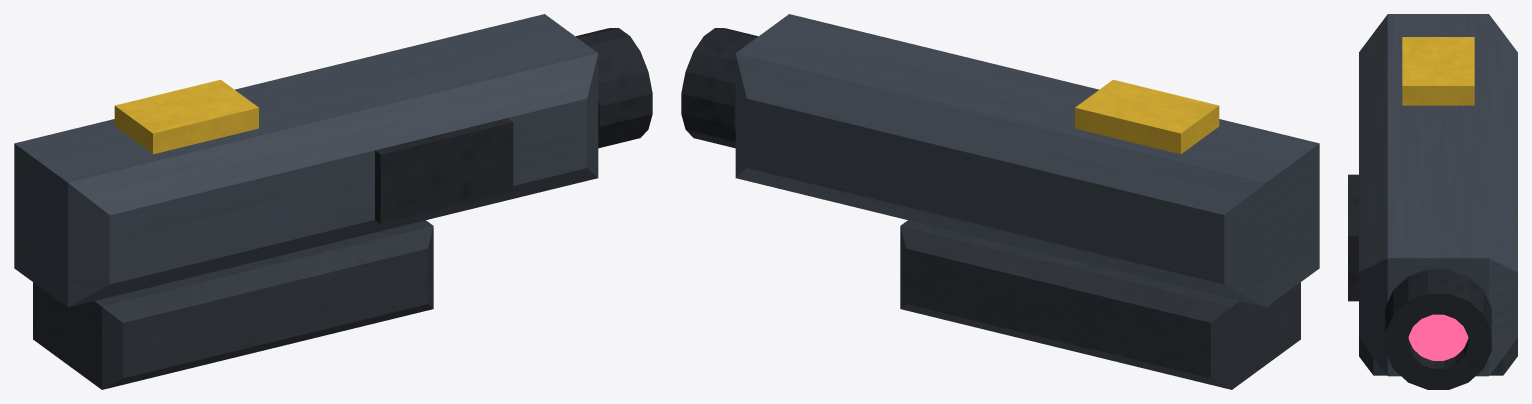
The model's file is sight_laser_v2.glb.
3 views of the same model, side by side, from view 1: azimuth 30°, elevation 25°; view 2: azimuth 150°, elevation 25°; view 3: azimuth 270°, elevation 25° (orthographic). The views are drawn at different scales.
Visible parts, largest first — view 1: sight_laser_mesh; view 2: sight_laser_mesh; view 3: sight_laser_mesh.
Part boxes in pixels (x1=…): sight_laser_mesh: x1=14, y1=14, x2=652, y2=389; sight_laser_mesh: x1=681, y1=14, x2=1319, y2=389; sight_laser_mesh: x1=1348, y1=14, x2=1517, y2=389.
Bounding box in the file's own units: 0.088 × 0.033 × 0.0235.
5 materials, 4 textured.
